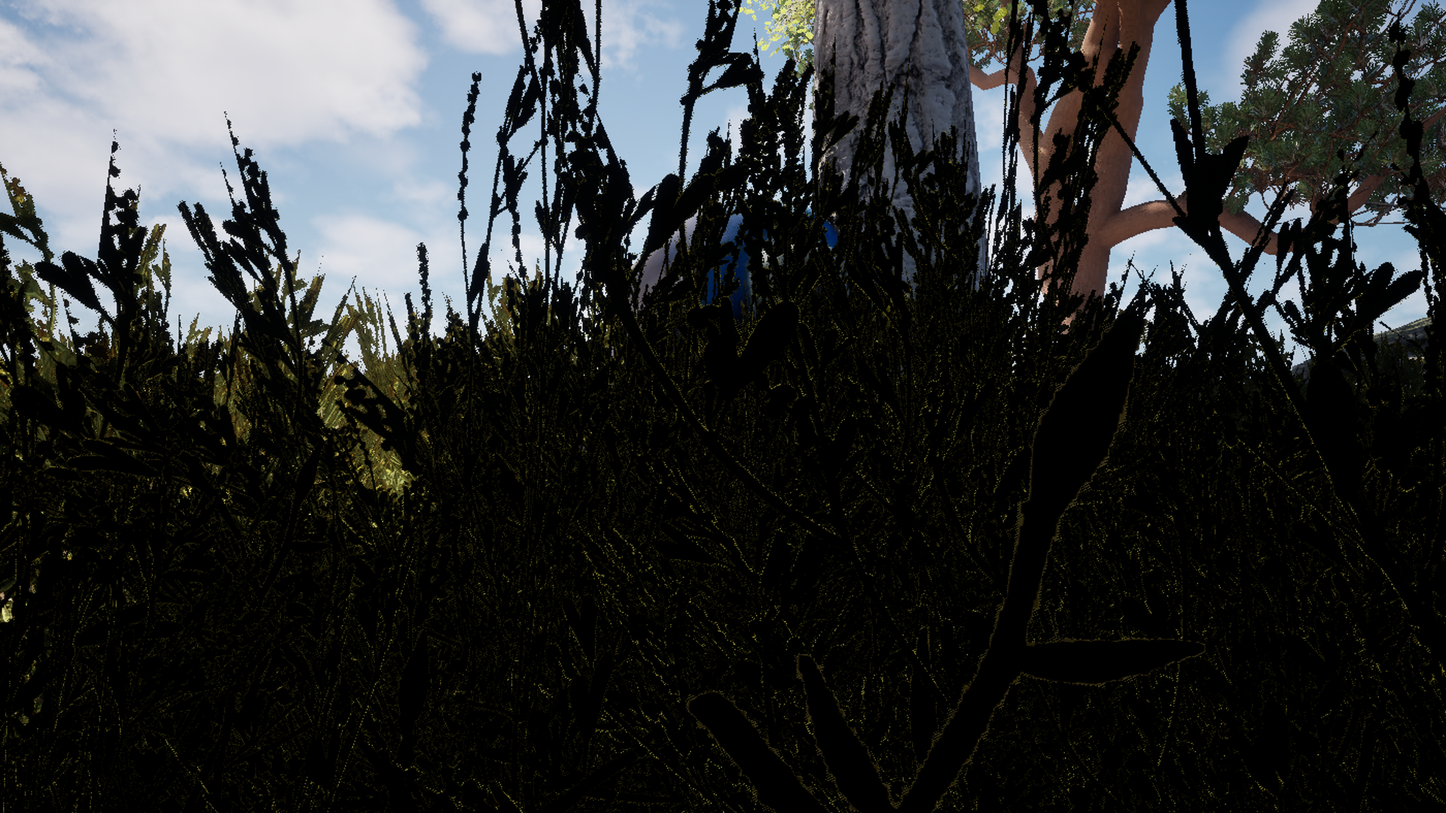Piplup: (417, 13, 1173, 800)
